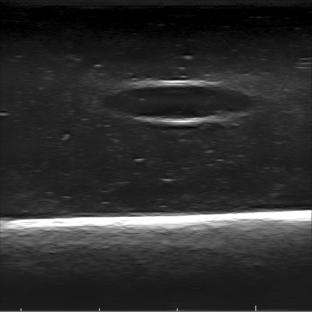vessel: (102, 79, 259, 126)
